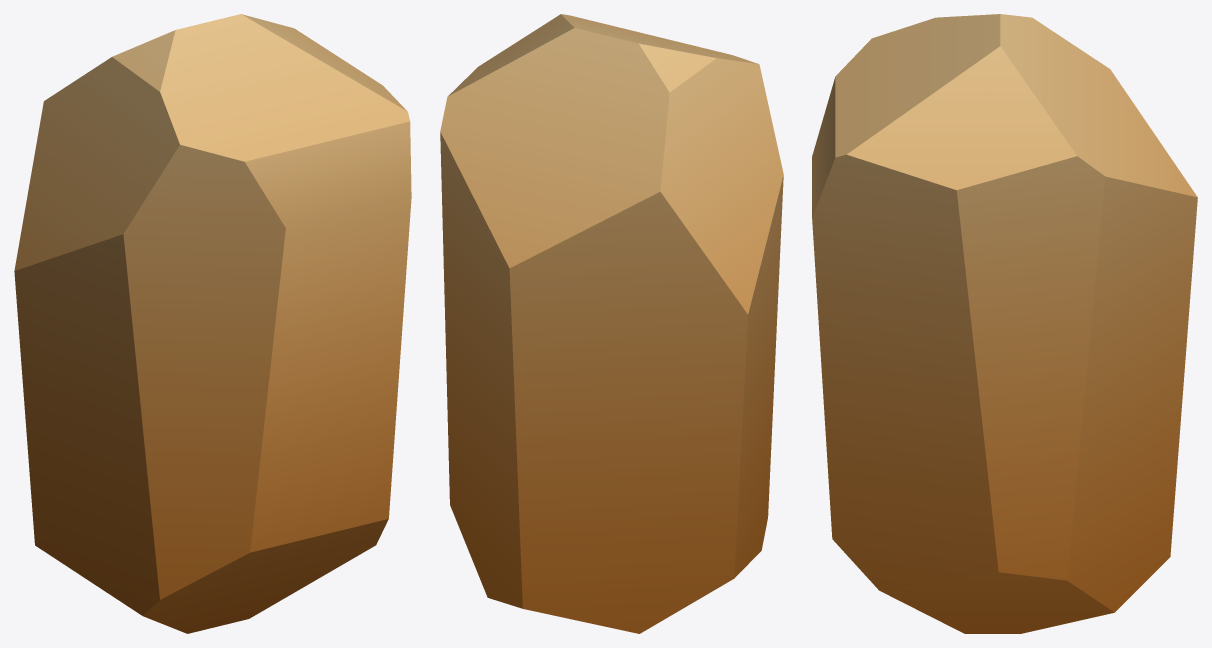
The model's file is Crystal_06.fbx.
3 renders of one model, left to right at view 1: azimuth 30°, elevation 25°; view 2: azimuth 150°, elevation 25°; view 3: azimuth 270°, elevation 25°, orthographic. The views are drawn at different scales.
Visible parts, largest first — view 1: Crystal_06_LOD0; view 2: Crystal_06_LOD0; view 3: Crystal_06_LOD0.
Part boxes in pixels (x1=…): Crystal_06_LOD0: x1=14, y1=14, x2=411, y2=633; Crystal_06_LOD0: x1=440, y1=14, x2=783, y2=633; Crystal_06_LOD0: x1=812, y1=14, x2=1197, y2=633.
Size of what is drawn, in the model's own units: 0.3472 by 0.6074 by 0.3584.
